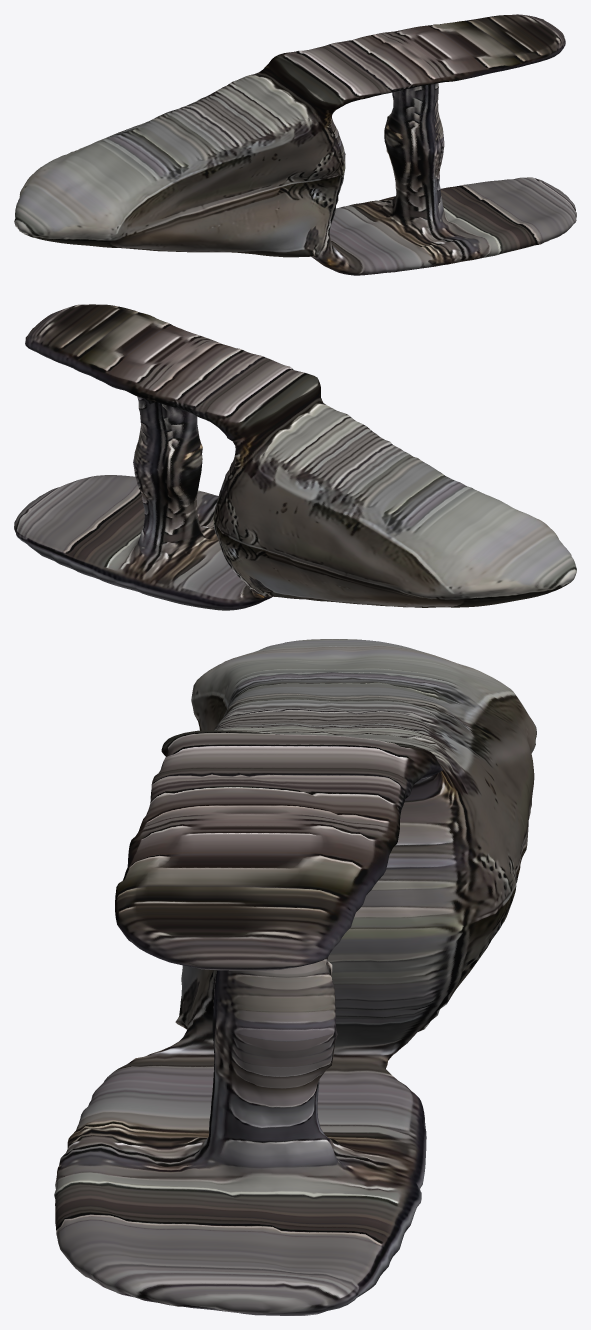
Rendered from kfl-2180.glb.
The picture shows the model from 3 angles, top to bottom: view 1: azimuth 30°, elevation 25°; view 2: azimuth 150°, elevation 25°; view 3: azimuth 270°, elevation 25°; orthographic projection. The views are drawn at different scales.
Visible parts, largest first — view 1: kfl-2180; view 2: kfl-2180; view 3: kfl-2180.
Part boxes in pixels (bbox=[...]): kfl-2180: bbox=[14, 14, 576, 275]; kfl-2180: bbox=[14, 304, 576, 610]; kfl-2180: bbox=[54, 639, 536, 1315].
Bounding box in the file's own units: 0.9908 × 0.3495 × 0.3971.
Materials: 1 (1 with a texture image).
